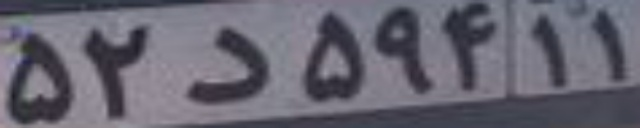1: (587, 8, 629, 80), (532, 15, 567, 85)
2: (82, 27, 148, 120)
4: (443, 3, 497, 91)
5: (4, 33, 70, 125), (304, 11, 363, 102)
9: (373, 7, 438, 93)
dal: (185, 26, 269, 105)
